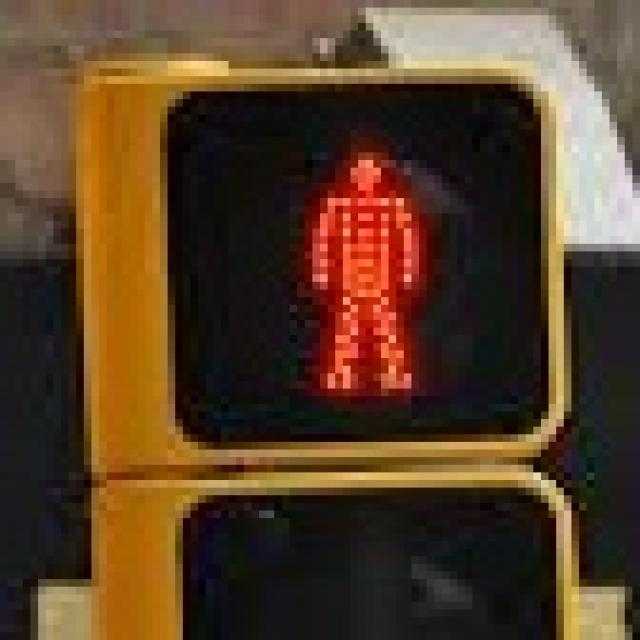red_light: (237, 106, 472, 420)
